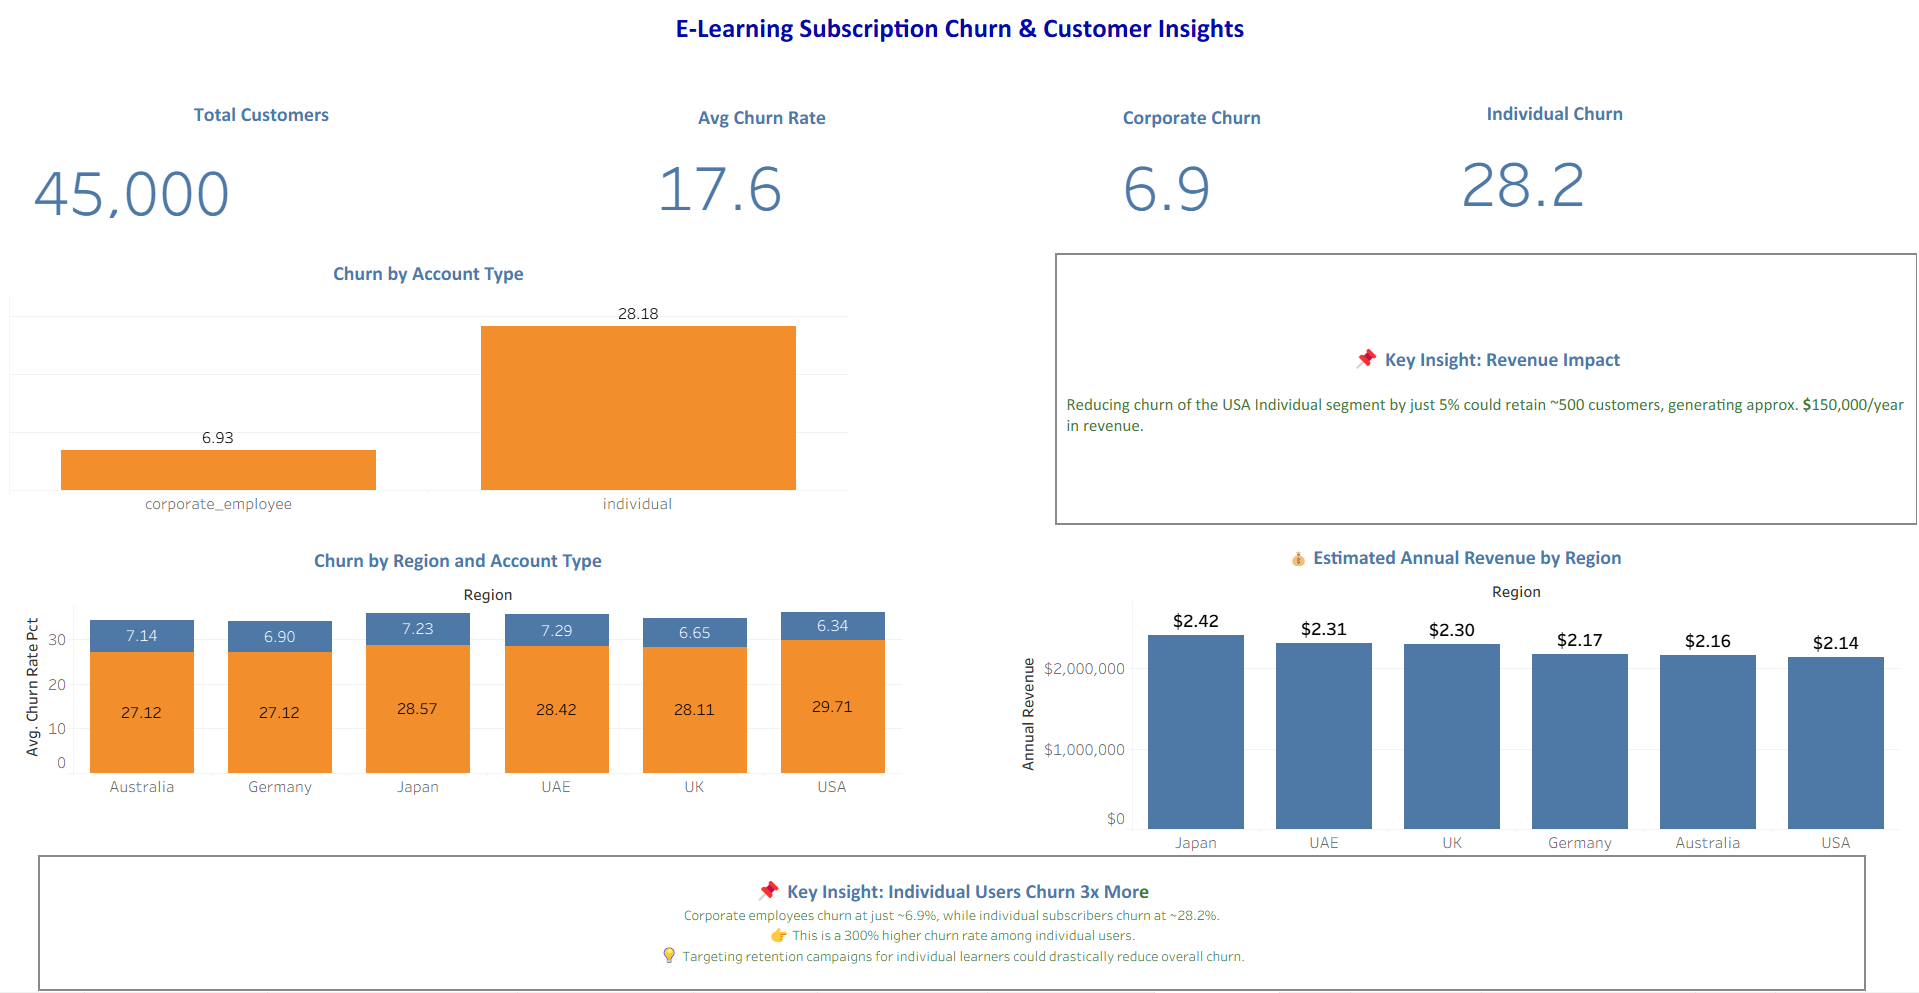

The dashboard page shown, as its layout file describes it:
{"tool":"tableau","page":{"name":"Dashboard 2","canvas":[1000,1000],"units":"permille","ordinal":0},"visuals":[{"type":"title","box":[5.4,10,989.1,51.2]},{"type":"text","box":[690.2,82.4,239.8,64.9]},{"type":"text","box":[284.7,84.9,224.2,68.7]},{"type":"text","box":[35.3,87.4,201.8,57.4]},{"type":"text","box":[508.8,88.6,224.2,59.9]},{"type":"worksheet","title":"KPI- Individual Churn","mark":"Automatic","box":[758.1,133.9,230.8,139.2]},{"type":"worksheet","title":"KPI- Avg Churn","mark":"Automatic","box":[336.8,137.9,246.7,135.2]},{"type":"worksheet","title":"KPI- Corporate Churn","mark":"Automatic","box":[581.4,137.9,162.9,135.2]},{"type":"worksheet","title":"KPI - Total Customers ","mark":"Automatic","box":[7.6,158,349.3,104.4]},{"type":"worksheet","title":"Churn by Account Type","mark":"Automatic","rows":["churn_rate_pct"],"cols":["account_type"],"box":[1.5,255.6,443.1,274.3]},{"type":"text","box":[549.2,255.6,449.2,274.3]},{"type":"worksheet","title":"Lifetime Revenue by Region","mark":"Bar","rows":["Calculation_1471986511450115"],"cols":["region"],"box":[516.9,533.7,480,336.7]},{"type":"worksheet","title":"Churn by Region and Account Type","mark":"Automatic","rows":["churn_rate_pct"],"cols":["region"],"box":[0,546.1,476.9,274.3]},{"type":"text","box":[20,861.6,952.3,137.2]}]}

Visuals, with their boxes on the dashboard's canvas, which has no fixed pixel size, in thousandths of its width and height (x1, y1, x2, y2). These are canvas units, not pixel positions in the 1919x993 screenshot, which may show the page scaled, cropped or inside an application window:
title: l=5, t=10, r=994, b=61
text: l=690, t=82, r=930, b=147
text: l=285, t=85, r=509, b=154
text: l=35, t=87, r=237, b=145
text: l=509, t=89, r=733, b=148
"KPI- Individual Churn" worksheet: l=758, t=134, r=989, b=273
"KPI- Avg Churn" worksheet: l=337, t=138, r=584, b=273
"KPI- Corporate Churn" worksheet: l=581, t=138, r=744, b=273
"KPI - Total Customers " worksheet: l=8, t=158, r=357, b=262
"Churn by Account Type" worksheet: l=2, t=256, r=445, b=530
text: l=549, t=256, r=998, b=530
"Lifetime Revenue by Region" worksheet (Bar marks): l=517, t=534, r=997, b=870
"Churn by Region and Account Type" worksheet: l=0, t=546, r=477, b=820
text: l=20, t=862, r=972, b=999
